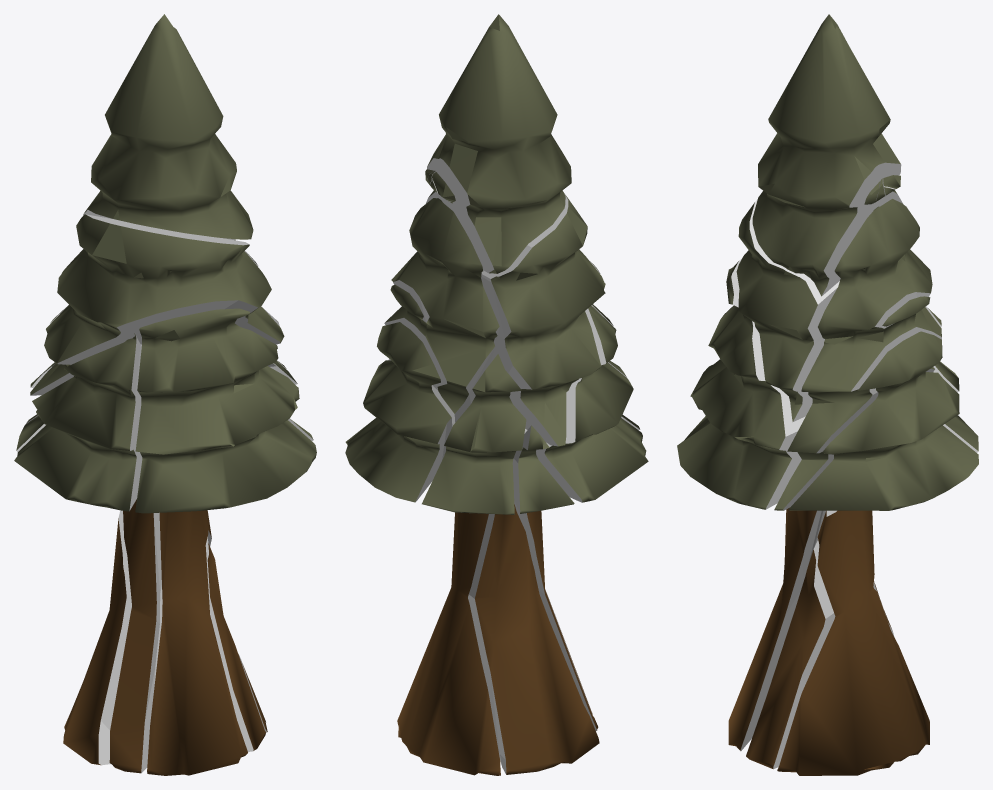
Rendered from Trees.glb.
The picture shows the model from 3 angles, left to right: view 1: azimuth 30°, elevation 25°; view 2: azimuth 150°, elevation 25°; view 3: azimuth 270°, elevation 25°; orthographic projection.
Parts seen in each view (by area): view 1: Root.007, Root.001, Root.011, Root.004, Root; view 2: Root.006, Root, Root.011, Root.004, Root.003, Root.001, Root.009; view 3: Root.011, Root.006, Root.007, Root.003, Root.009, Root.004, Root, Root.010.
Part boxes in pixels (box(x1,y1,x2,y2)): Root.007: box(135, 308, 316, 775); Root.001: box(14, 333, 161, 773); Root.011: box(83, 14, 253, 240); Root.004: box(30, 214, 284, 395); Root: box(16, 366, 265, 765); Root.006: box(397, 354, 526, 775); Root: box(468, 425, 599, 774); Root.011: box(426, 14, 571, 273); Root.004: box(481, 193, 605, 446); Root.003: box(384, 198, 499, 426); Root.001: box(514, 305, 648, 730); Root.009: box(345, 322, 452, 502); Root.011: box(752, 14, 902, 296); Root.006: box(777, 306, 978, 775); Root.007: box(677, 258, 821, 751); Root.003: box(774, 199, 941, 510); Root.009: box(788, 331, 978, 510); Root.004: box(736, 199, 839, 421); Root: box(746, 539, 894, 769); Root.010: box(882, 296, 930, 326).
Bounding box in the file's own units: 1.32 × 3.66 × 1.39.
